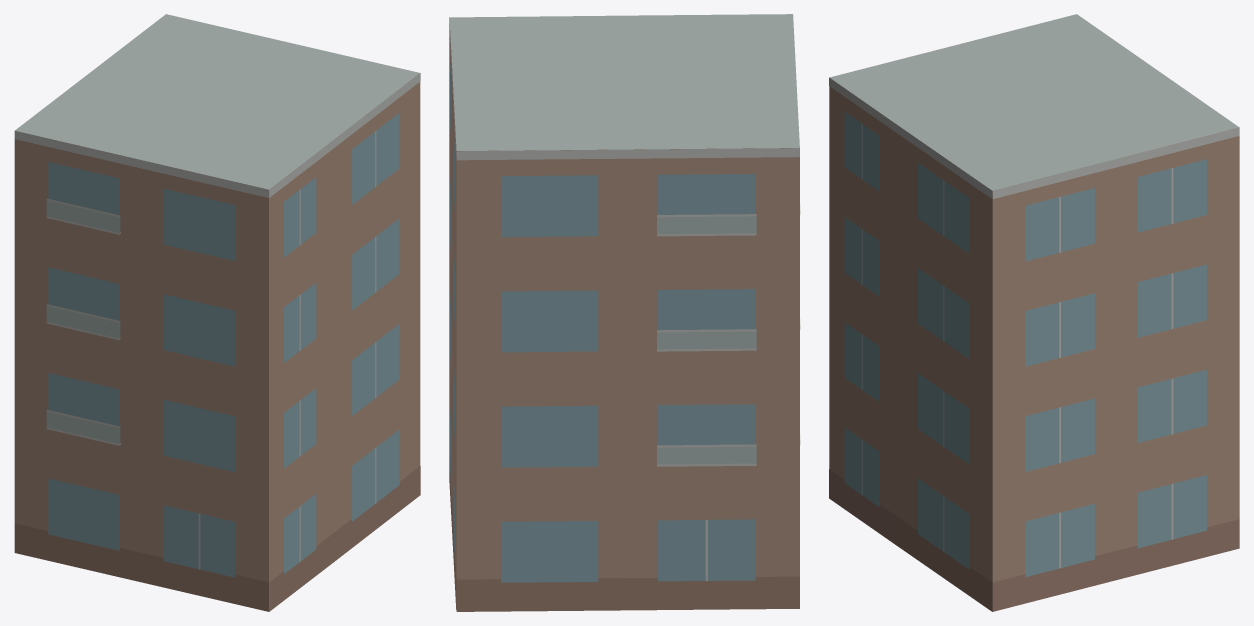
Rendered from residential-979eb0dd-8b82-4254-939b-b6dd270478e5.glb.
The picture shows the model from 3 angles, left to right: view 1: azimuth 30°, elevation 25°; view 2: azimuth 150°, elevation 25°; view 3: azimuth 270°, elevation 25°; orthographic projection. The views are drawn at different scales.
Visible parts, largest first — view 1: residential-979eb0dd-8b82-4254-939b-b6dd270478e5.tmp; view 2: residential-979eb0dd-8b82-4254-939b-b6dd270478e5.tmp; view 3: residential-979eb0dd-8b82-4254-939b-b6dd270478e5.tmp.
Boxes of the visible parts, x1,y1,x2,y2 form: residential-979eb0dd-8b82-4254-939b-b6dd270478e5.tmp: (14,14,420,611); residential-979eb0dd-8b82-4254-939b-b6dd270478e5.tmp: (449,14,800,611); residential-979eb0dd-8b82-4254-939b-b6dd270478e5.tmp: (829,14,1239,611).
Size of the model in its own units: 11 by 12.2 by 10.79.
